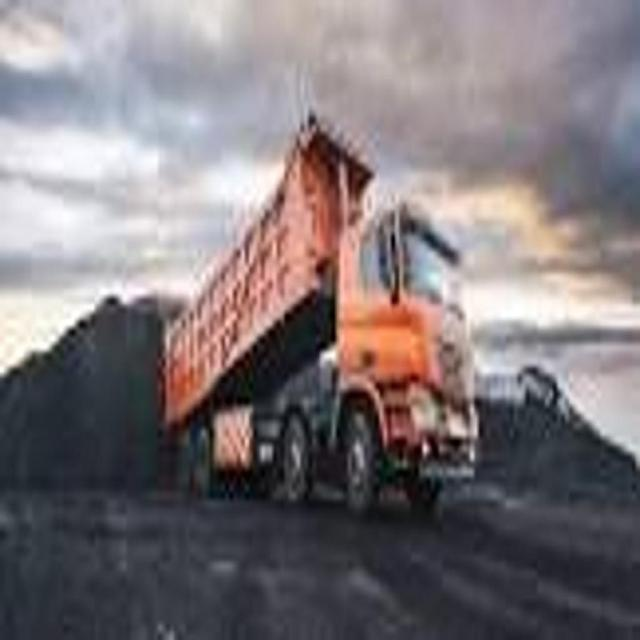dump_truck: (152, 103, 484, 518)
